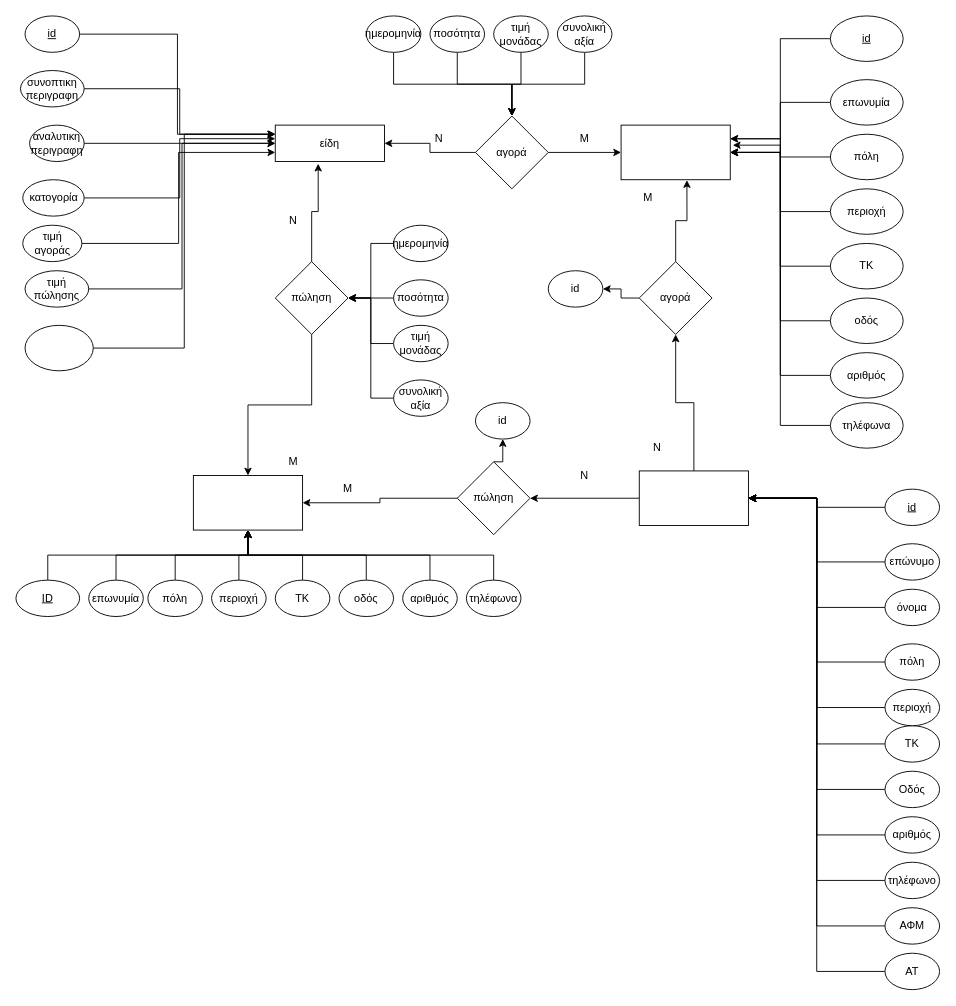
This 956x1006 diagram has some shape labels left out. Each missing label, with the centre of its shape:
διαθέσιμη ποσότητα: [58,347]
πελάτες: [247,502]
προμηθευτές: [675,152]
υπάλοιλοι: [693,498]
